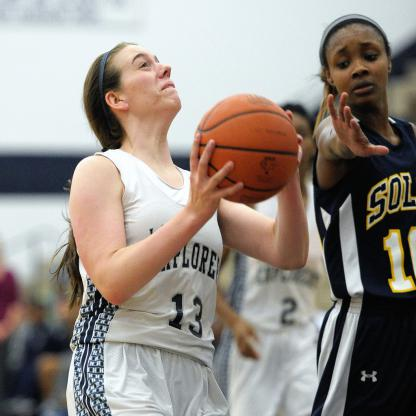Ball: (194, 91, 300, 205)
